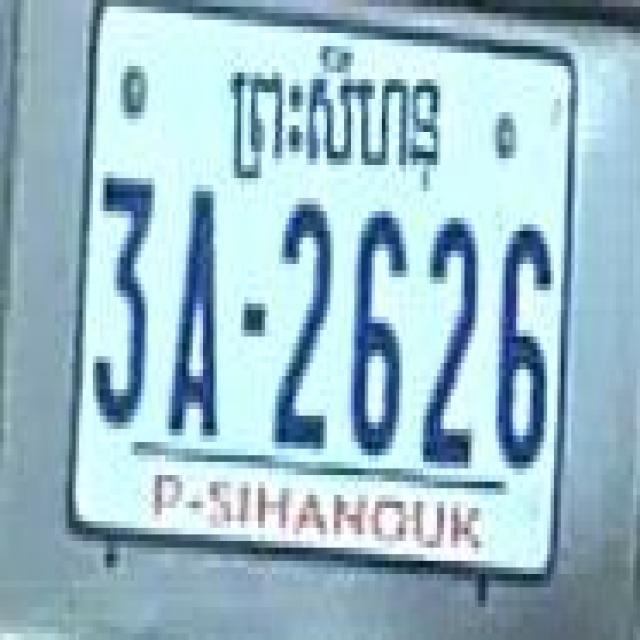Preah_Sihanouk: (231, 40, 442, 195)
